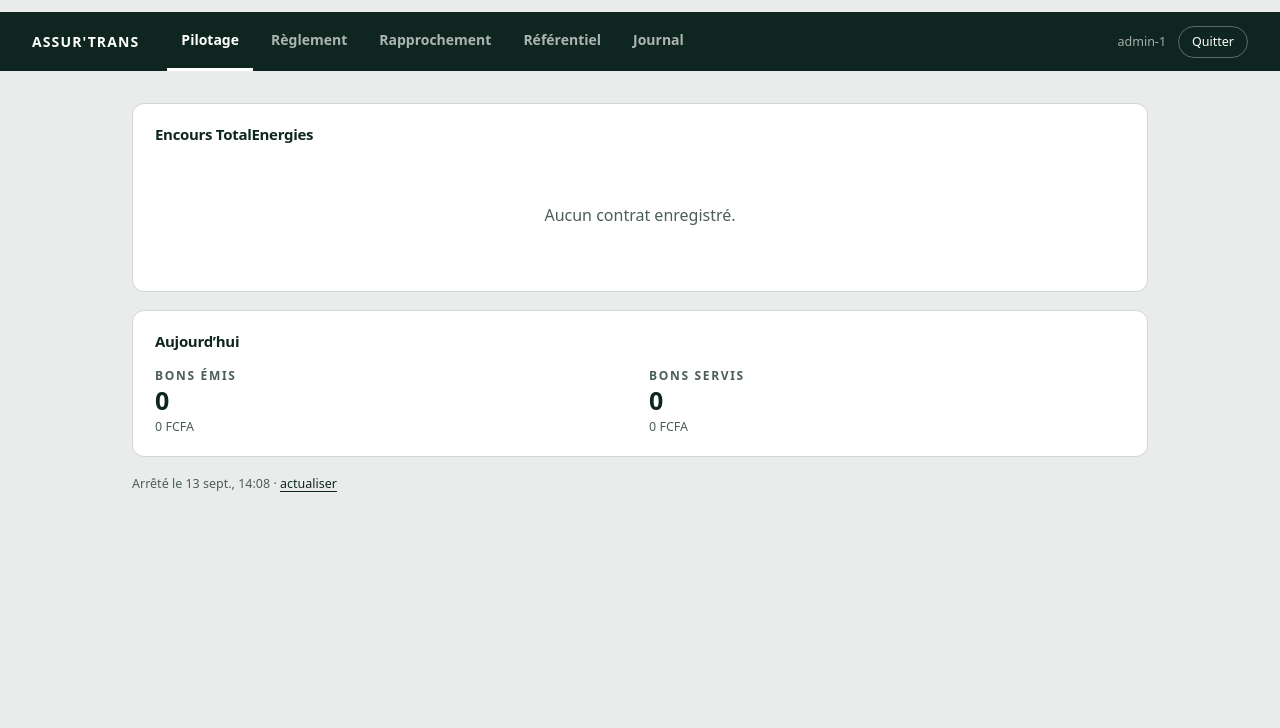
Test: factures › refuse un montant à décimales sans appeler le serveur
Click the button "Règlement" at (309, 42), box [257, 12, 361, 71]
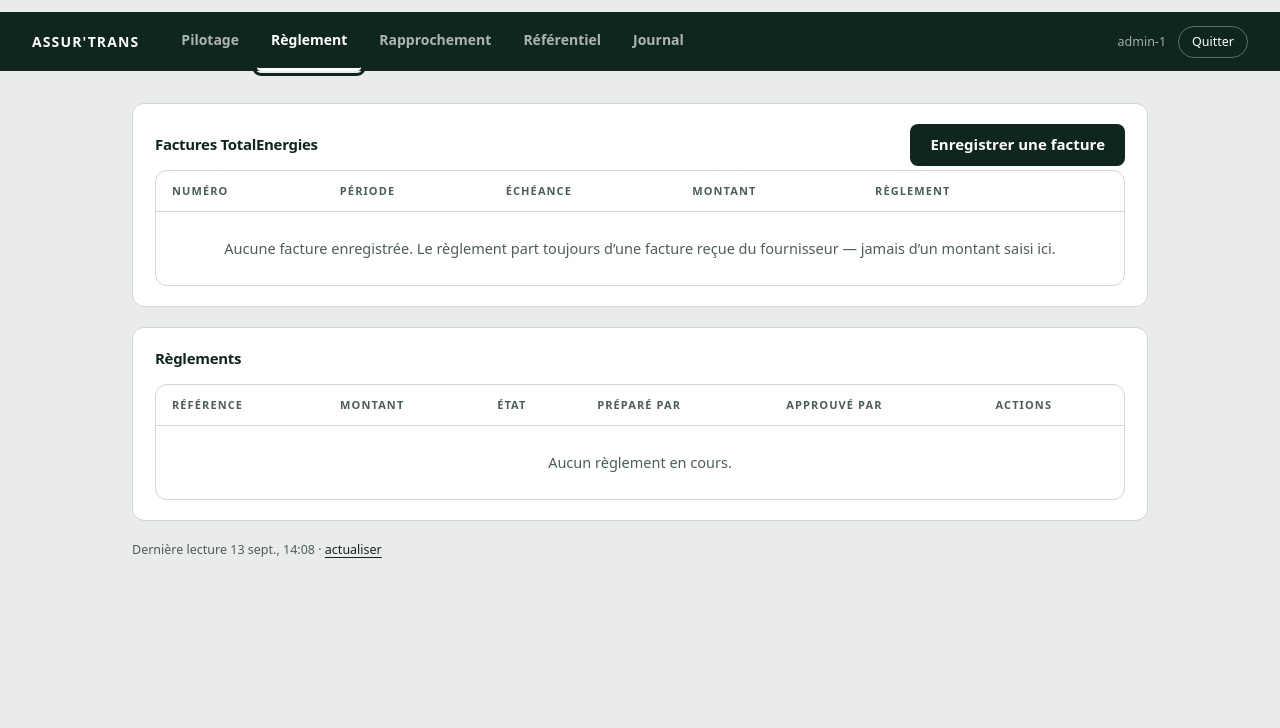
Click the button "Enregistrer une facture" at (1018, 145), box [910, 124, 1125, 166]
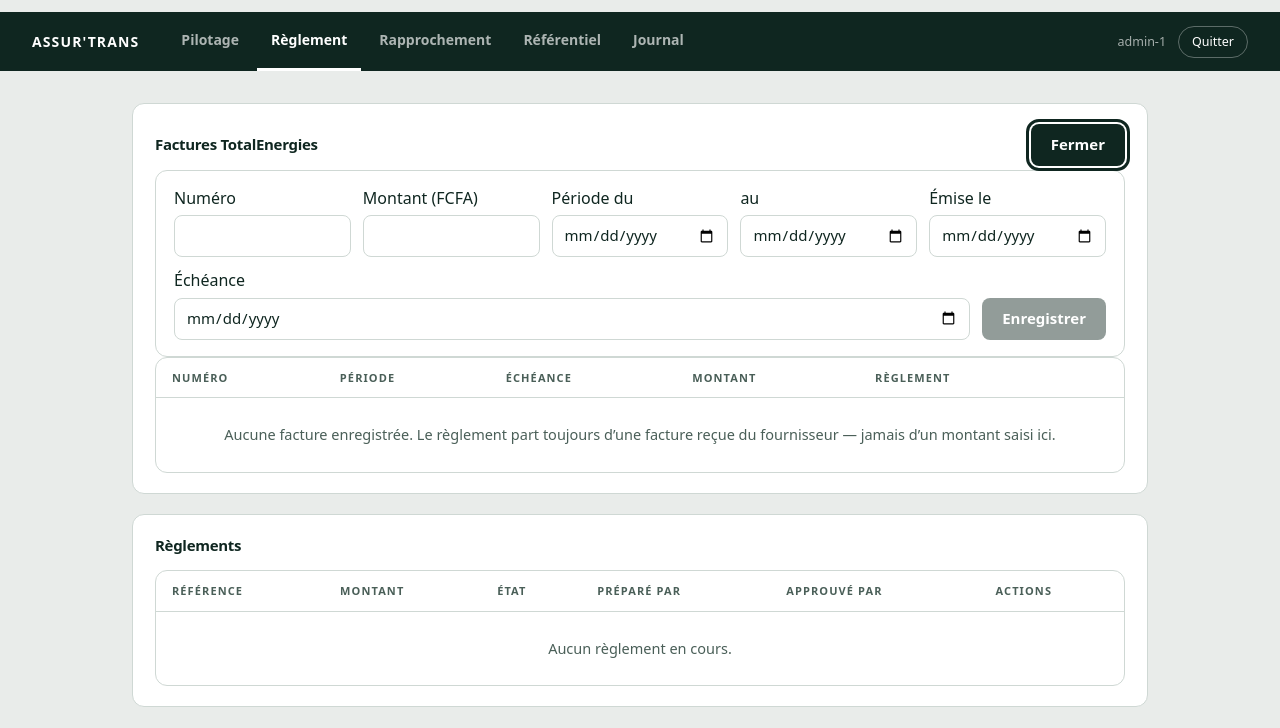
Type "2000,50" into the field labelled "Montant (FCFA)" at (451, 236), box [363, 215, 540, 257]
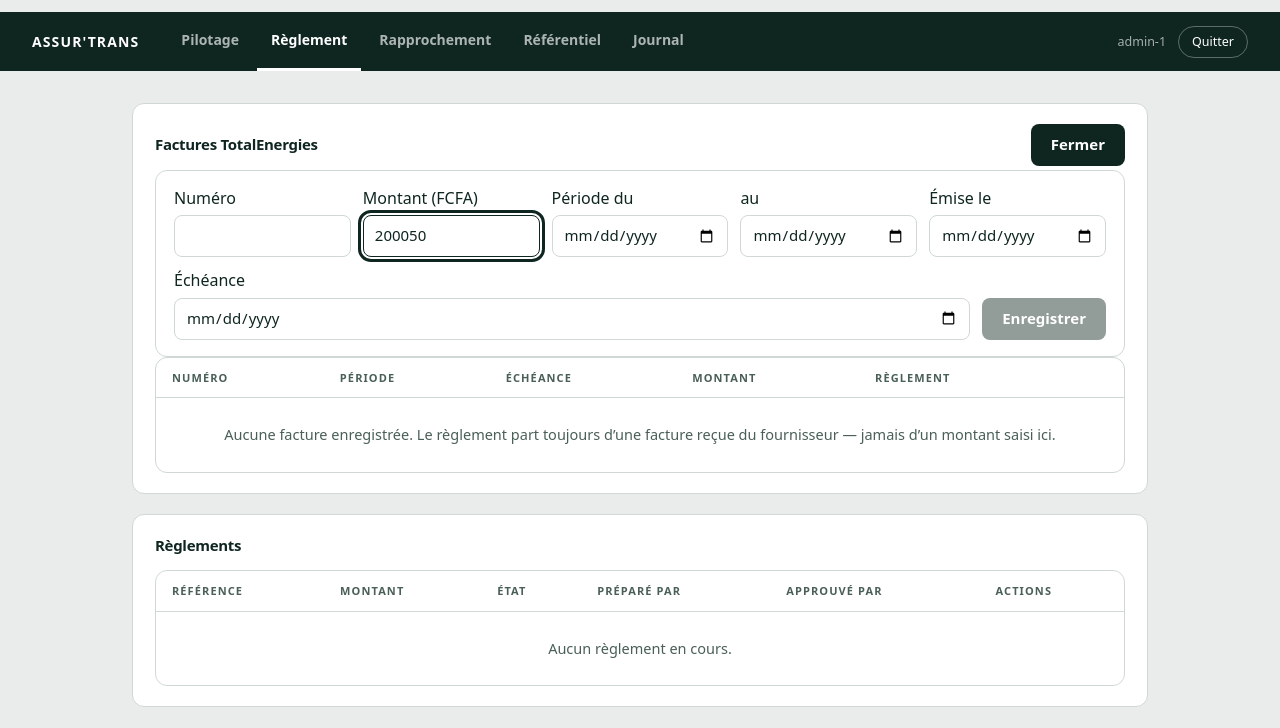
Expected: the field labelled "Montant (FCFA)" holds "200050", [363, 215, 540, 257]
